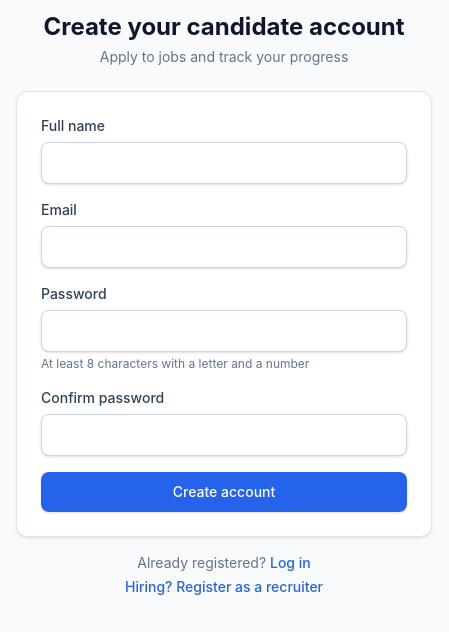
Register form › validates password rules and confirmation
In the field labelled "Full name": (224, 163) [41,142,407,184], type "Jo"
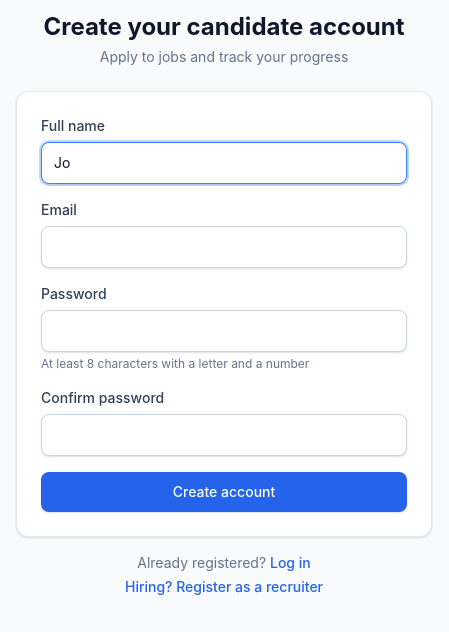
In the field labelled "Email": (224, 247) [41,226,407,268], type "jo@x.co"
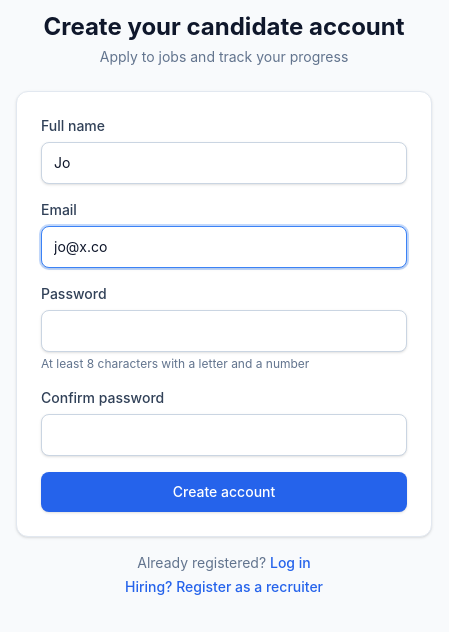
In the password field labelled "Password": (224, 331) [41,310,407,352], type "abcdefgh"
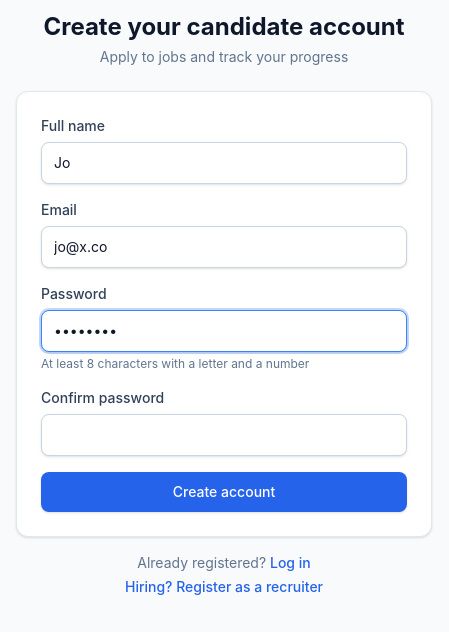
In the password field labelled "Confirm password": (224, 435) [41,414,407,456], type "different1"
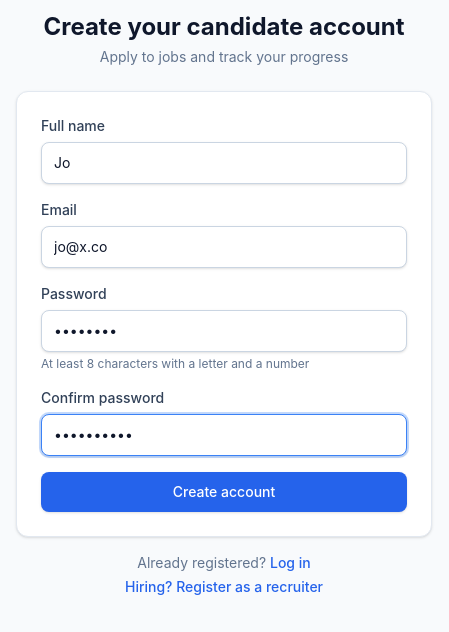
Click the button "Create account": (224, 492) [41,472,407,512]
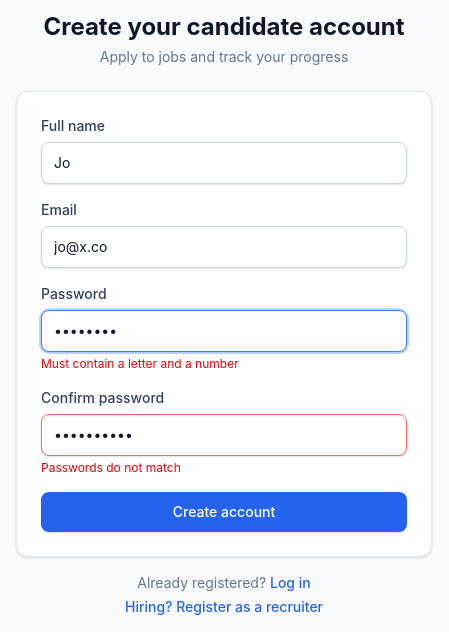
Result: the text "Must contain a letter and a number" is shown at [41,356,239,371]
Result: the text "Passwords do not match" is shown at [41,460,181,475]
